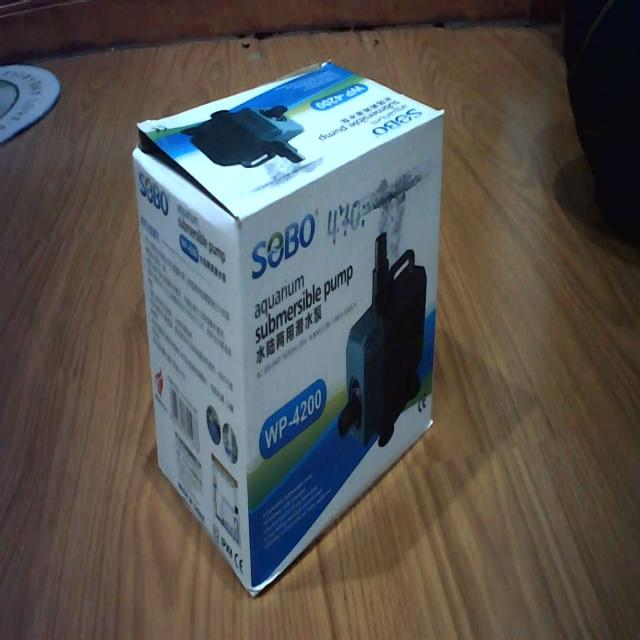SOBO_WP_4200: (122, 46, 448, 603)
